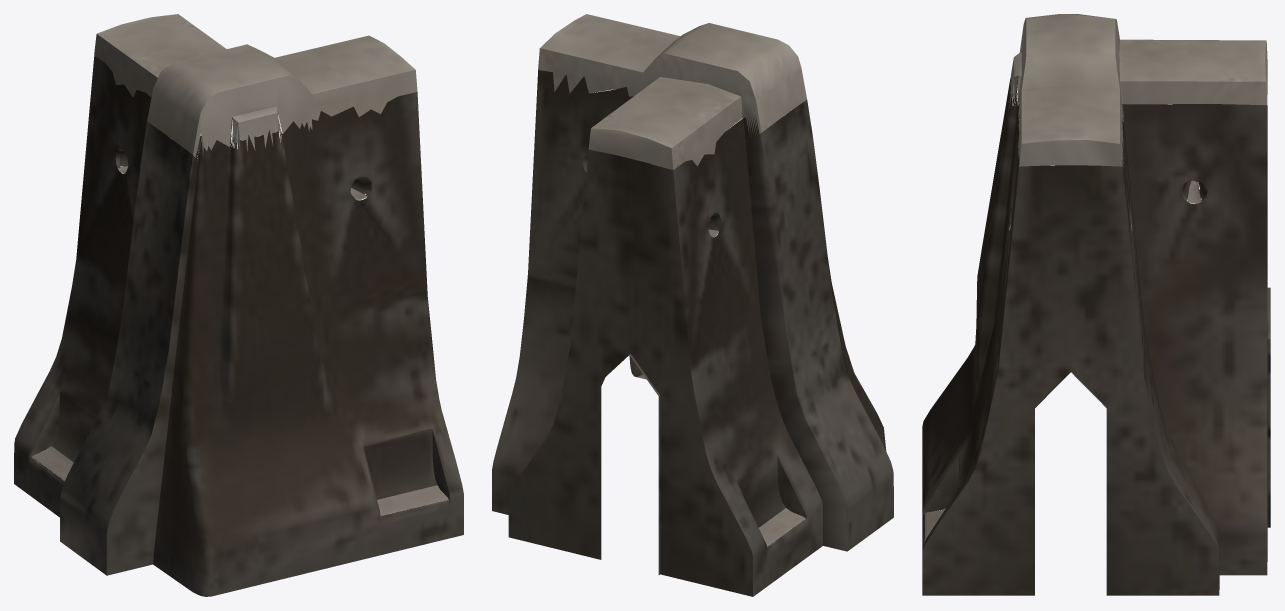
The model's file is stone-wall-ne.glb.
3 views of the same model, side by side, from view 1: azimuth 30°, elevation 25°; view 2: azimuth 150°, elevation 25°; view 3: azimuth 270°, elevation 25° (orthographic). The views are drawn at different scales.
Visible parts, largest first — view 1: body; view 2: body; view 3: body.
Part boxes in pixels (x1,y1,x2,y2): body: [14, 14, 463, 596]; body: [492, 14, 893, 596]; body: [922, 14, 1270, 595].
Size of the model in its own units: 0.9457 by 1.33 by 0.8718.
Materials: 1 (1 with a texture image).
